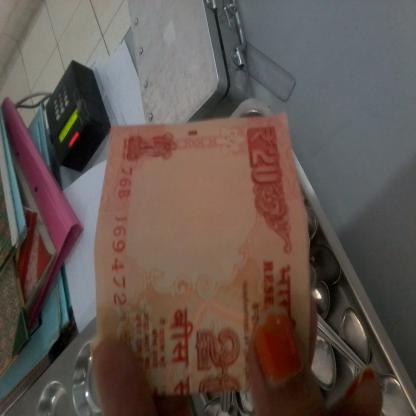Old20Front: (106, 120, 305, 392)
